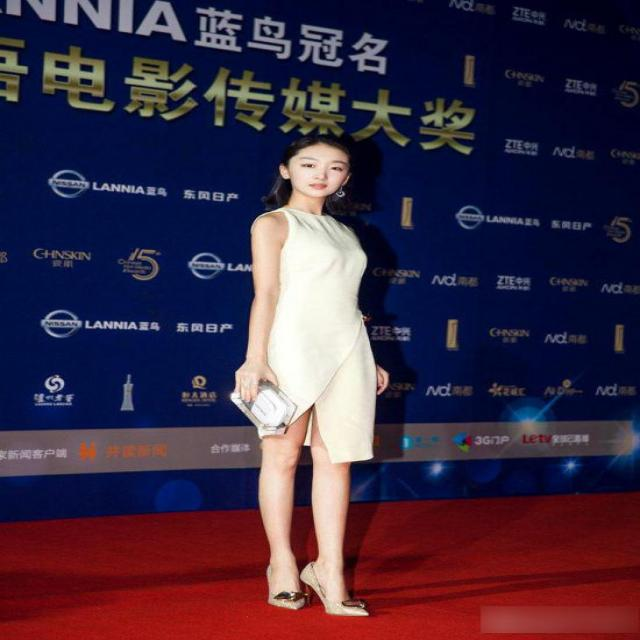Manusia: (215, 131, 411, 609)
